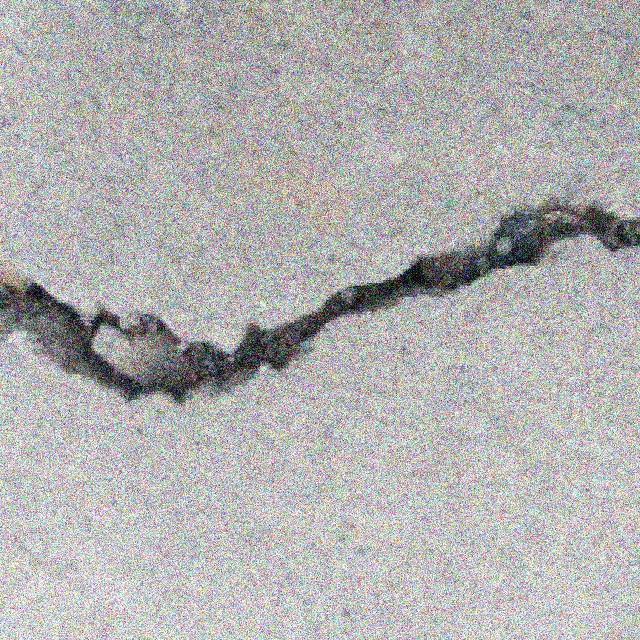SurfaceCrack: (2, 194, 640, 420)
